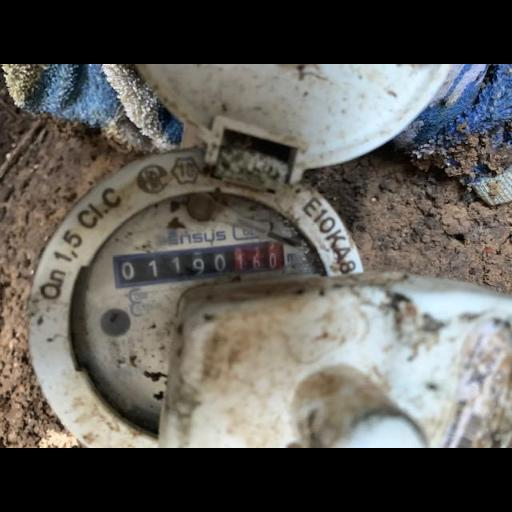0: (208, 246, 233, 276), (117, 256, 142, 285), (263, 240, 285, 270)
1: (162, 250, 190, 280), (139, 253, 166, 282), (230, 245, 250, 273)
6: (246, 243, 266, 271)
9: (186, 249, 212, 280)
border_water_meter_number: (112, 239, 286, 289)
